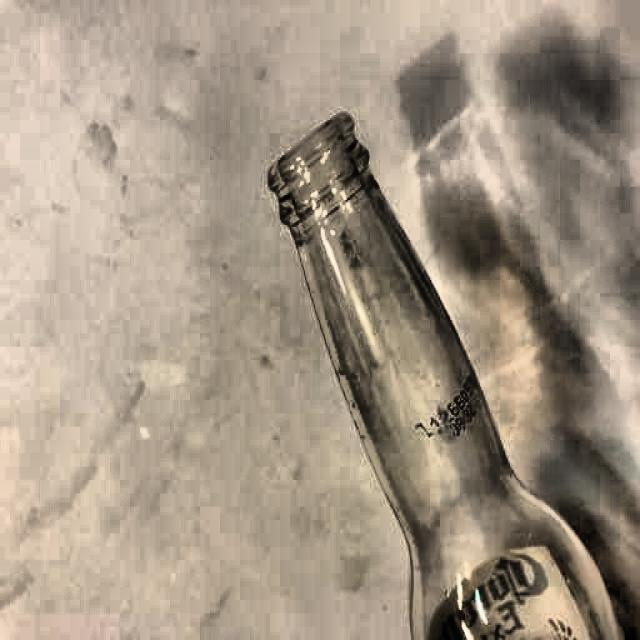glass: (264, 108, 630, 640)
